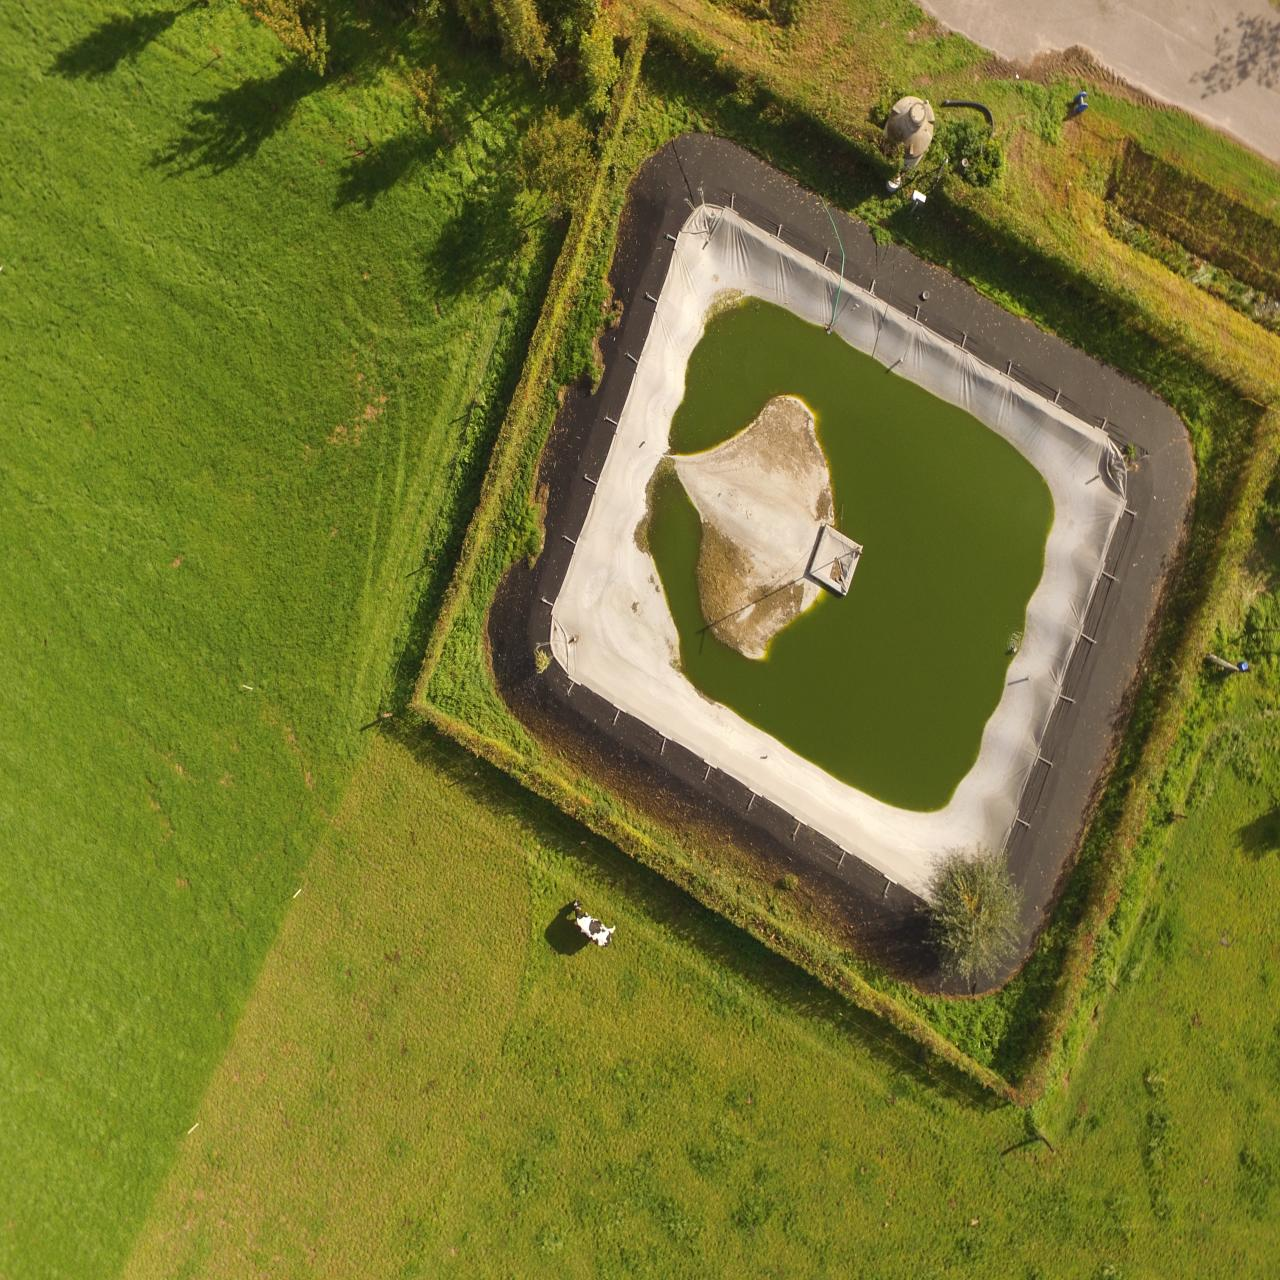cow: (571, 897, 617, 953)
